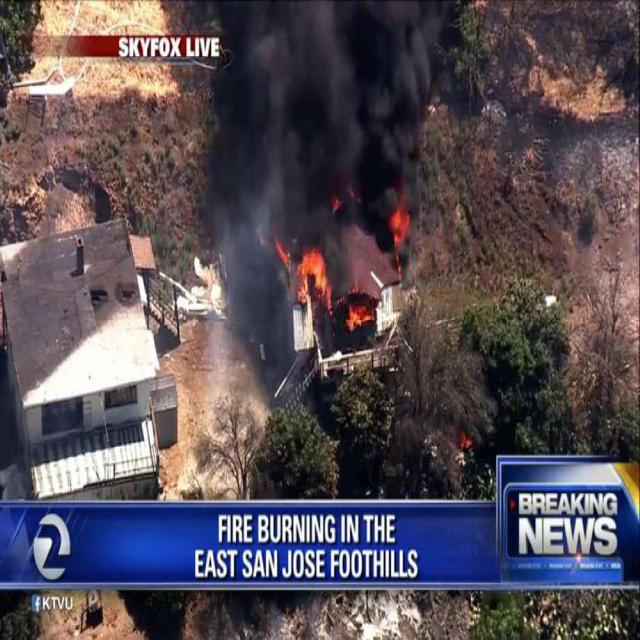Fire: (264, 171, 434, 392)
